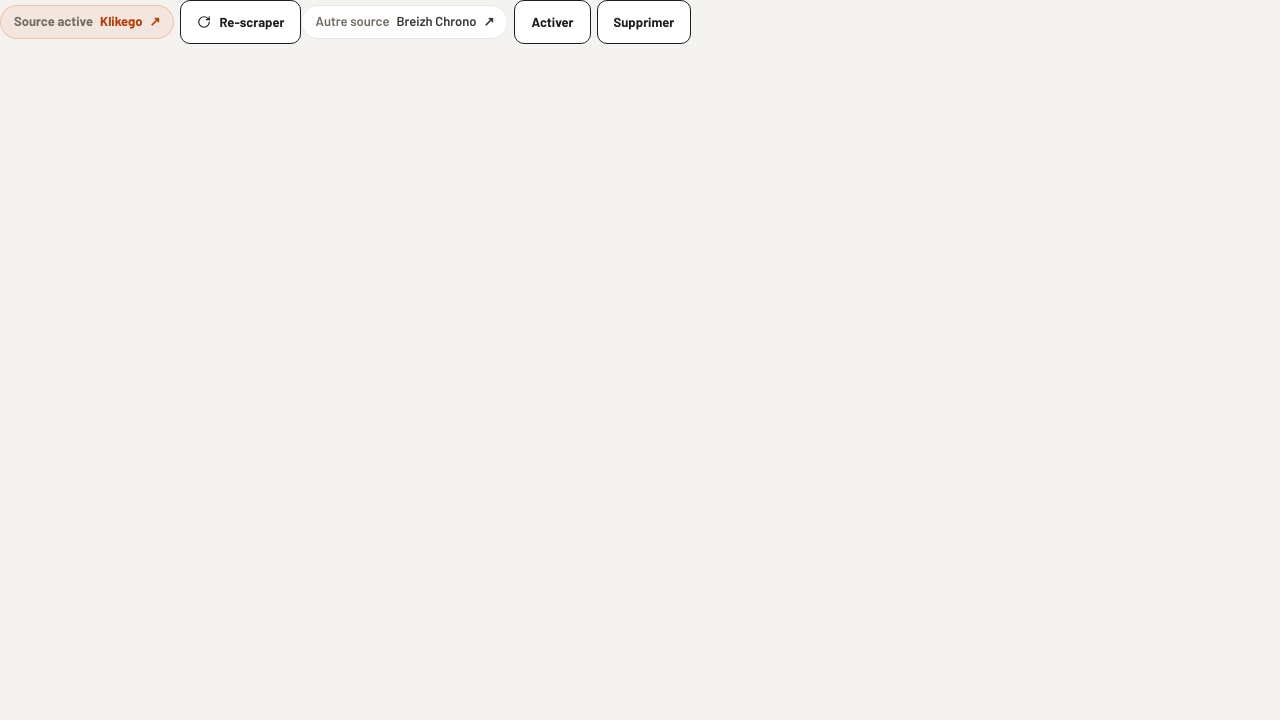
Scenario: CourseSourcesPanel › annuler ne bascule rien
Click the button "Activer". click: {"x": 552, "y": 22}
box: [514,0,591,44]
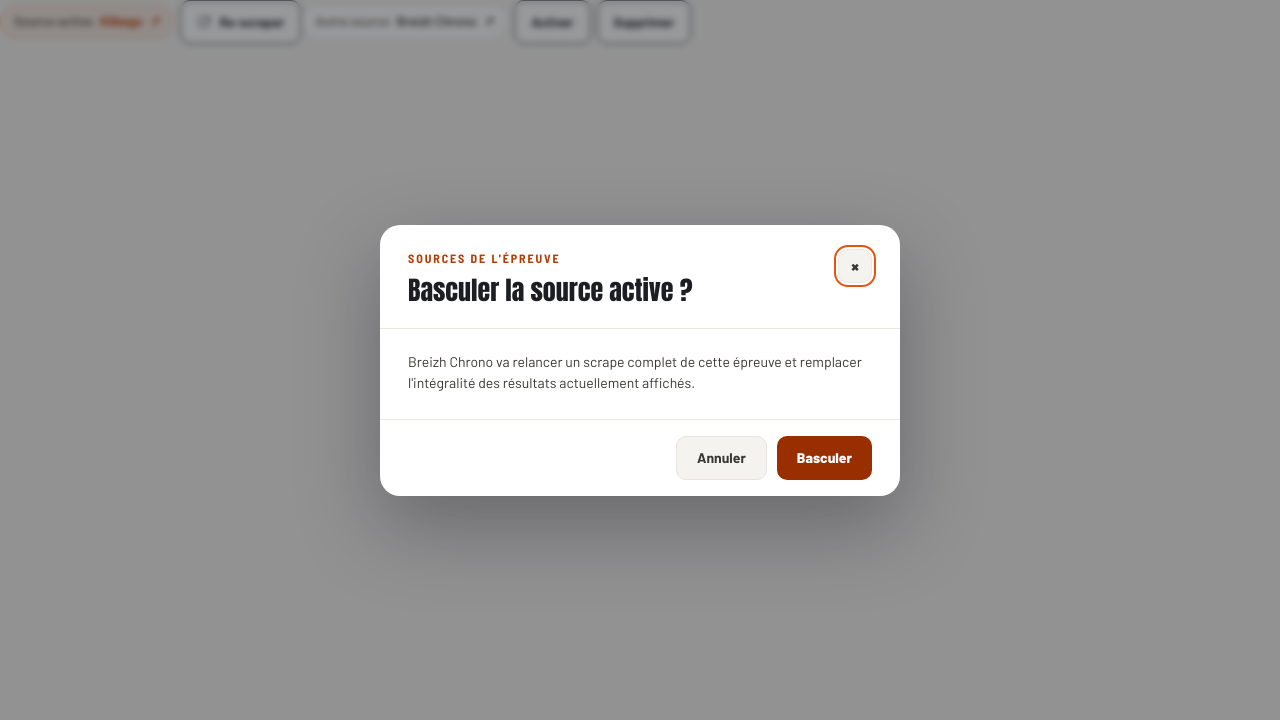
Click the button "Annuler". click: {"x": 721, "y": 458}
box: [676,436,767,480]
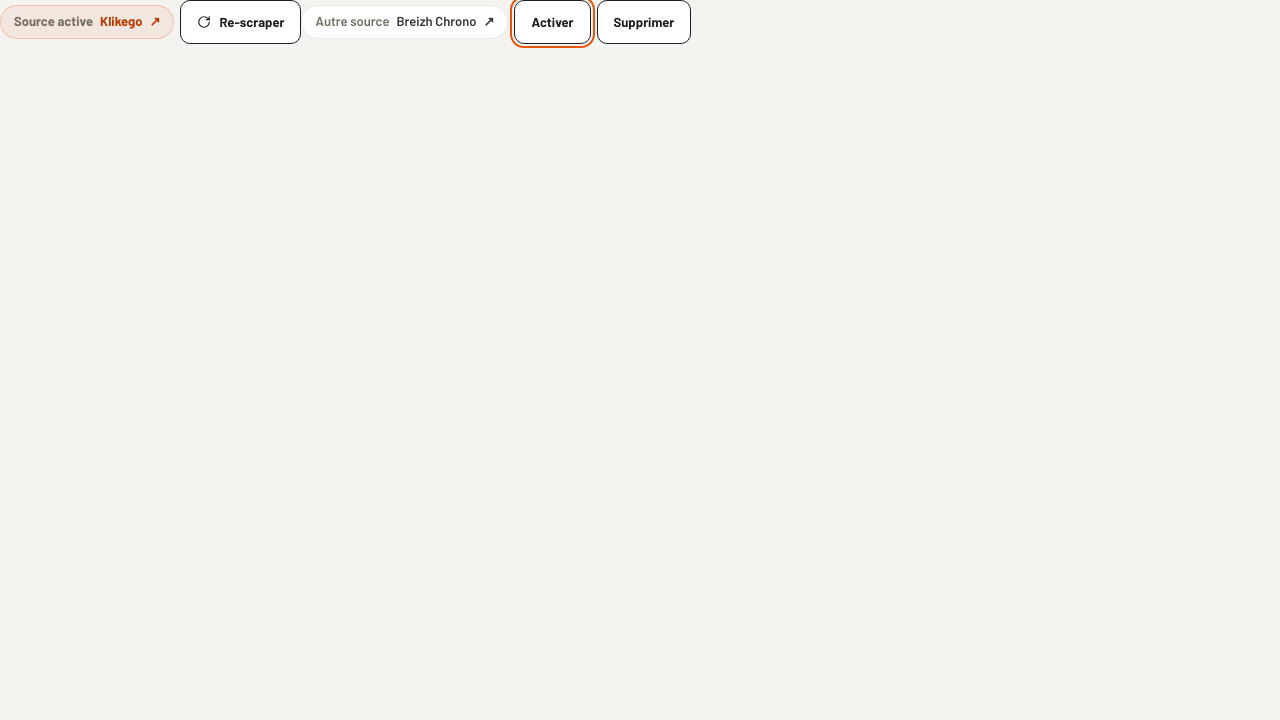
Now the button "Basculer" is gone
